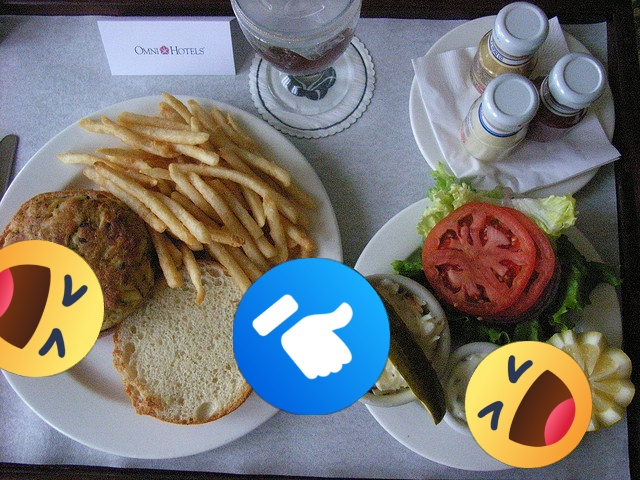haha: (465, 341, 592, 468), (0, 240, 104, 377)
like: (233, 258, 390, 415)
